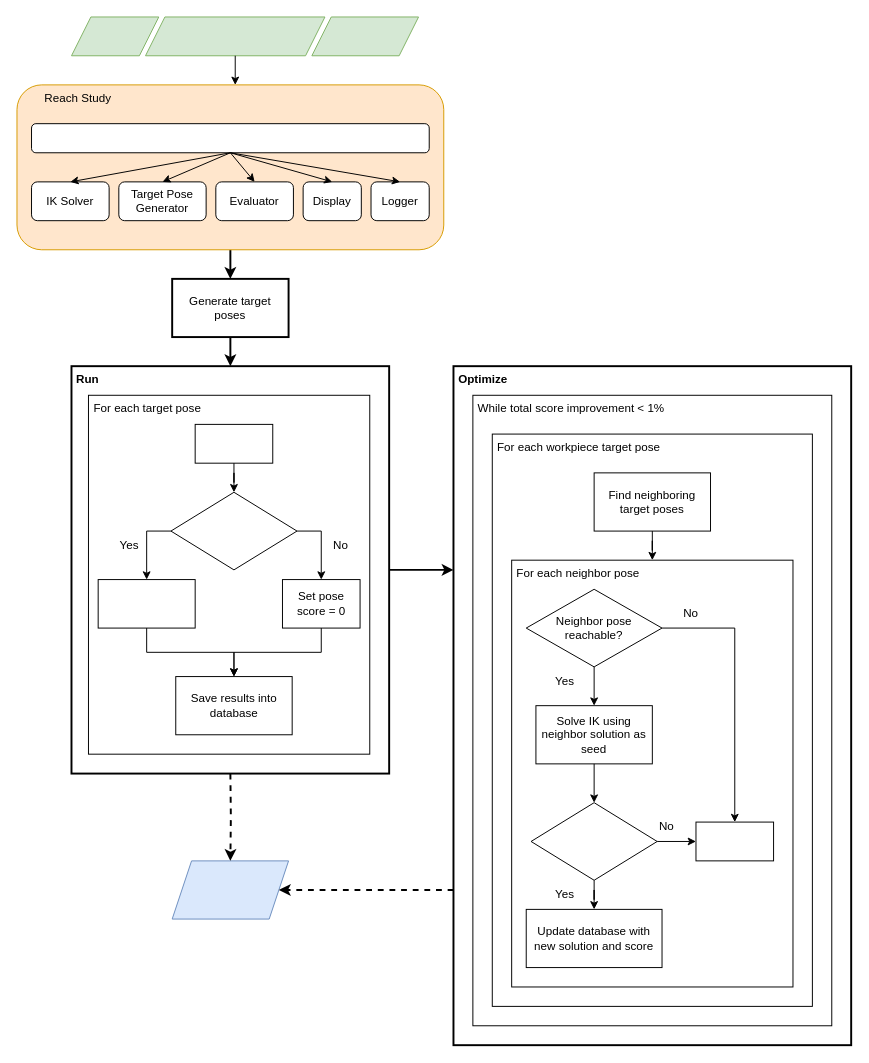
Image size: 869x1063. Some labels were removed from this diagram. Each missing label, with the centre of its shape:
Calculate pose score: the point at 146,603
Continue: the point at 734,841
Plugin Loader: the point at 230,138
Reach Study Config File: the point at 235,36
Reach Study Database: the point at 230,889
Solution exists?: the point at 233,530
Solution has higher score?: the point at 593,841
Solve IK: the point at 233,443
URDF: the point at 115,36
Work Object Mesh: the point at 365,36
